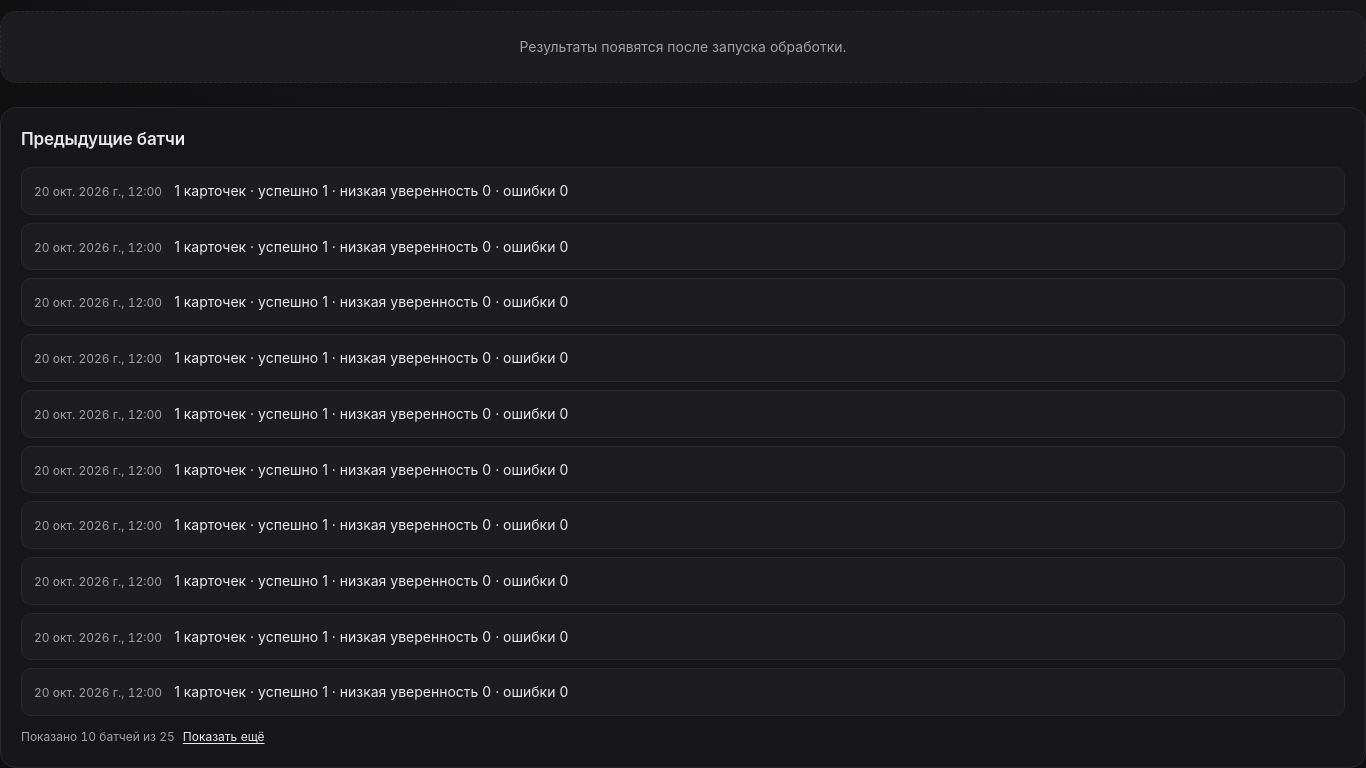
it: PageResults › показывает ошибку догрузки и не теряет уже загруженные батчи
(page scrolled)
Check: the text "Показано 10 батчей из 25" is shown, box [21, 728, 175, 747]
Step 1. Click the button "Показать ещё" → (224, 737), box [183, 728, 265, 747]
(page scrolled)
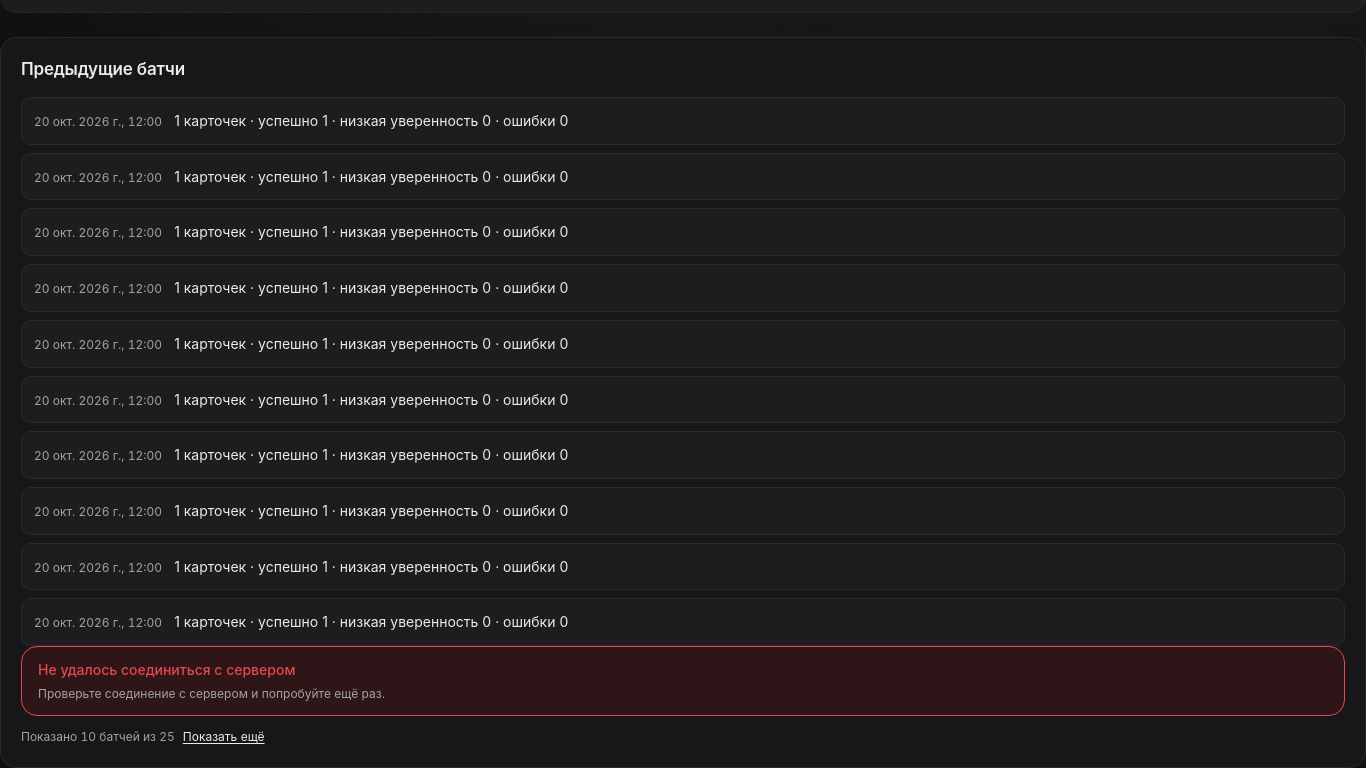
Check: the text "Показано 10 батчей из 25" is shown, box [21, 728, 175, 747]
Check: the text "Проверьте соединение с сервером и попробуйте ещё раз." is shown, box [38, 686, 385, 701]
